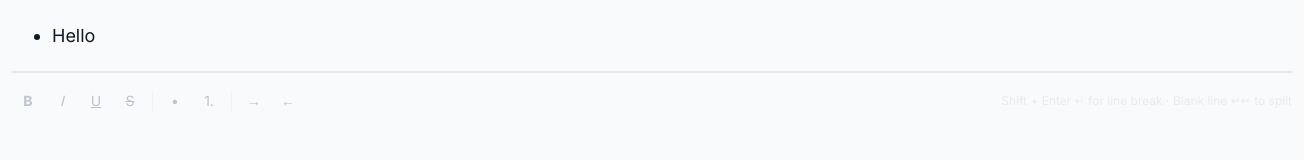
Test: RichTextEditor top-level bullets › removes a top-level bullet when the bullet button is clicked again
The image size is (1304, 160).
Press the mouse on the button titled "Bullet List" at [175, 101], box [159, 85, 191, 117]
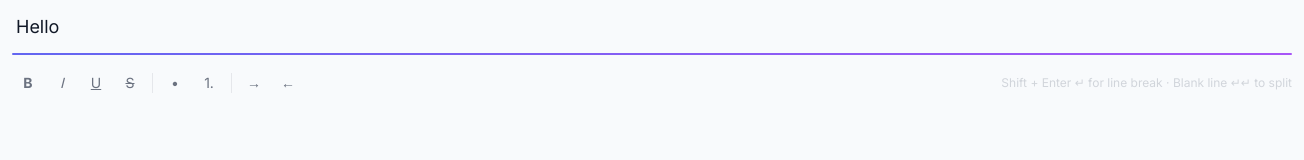
Check: the text box labelled "Hello" is shown, box [16, 16, 59, 37]
Check: the list is gone
